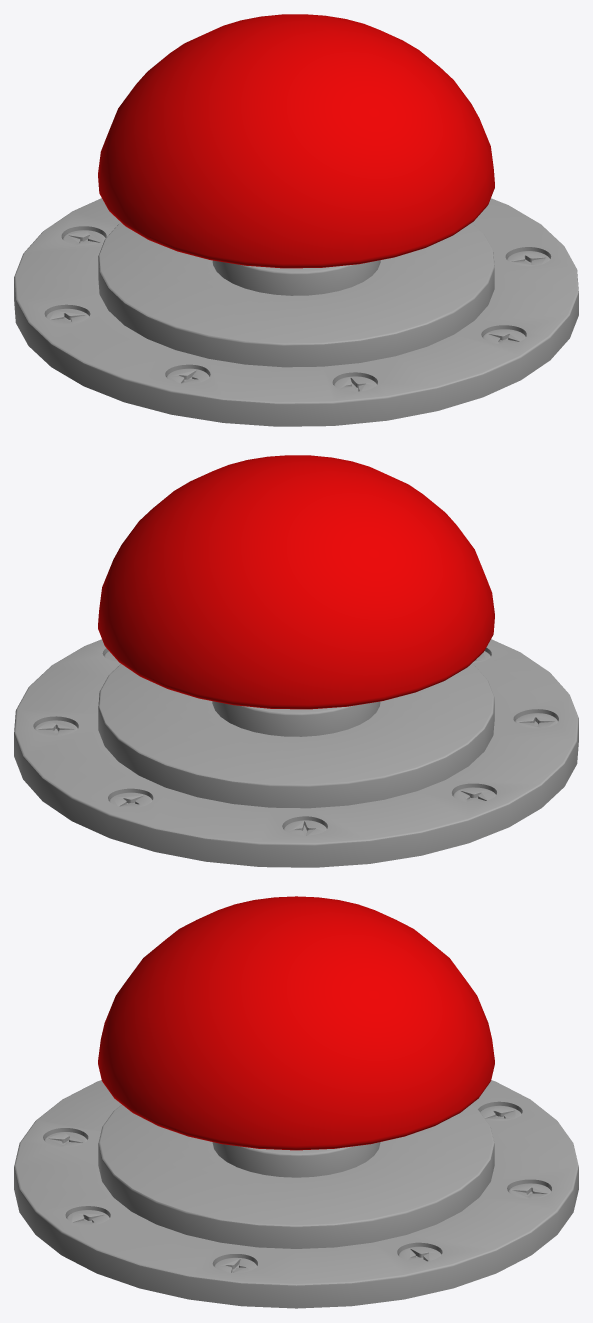
File: button.fbx
3 views of the same model, one above another, from view 1: azimuth 30°, elevation 25°; view 2: azimuth 150°, elevation 25°; view 3: azimuth 270°, elevation 25° (orthographic).
Visible parts, largest first — view 1: Cylinder, Cylinder.003; view 2: Cylinder, Cylinder.003; view 3: Cylinder, Cylinder.003.
Boxes of the visible parts, x1=… form: Cylinder: x1=14, y1=198, x2=578, y2=426; Cylinder.003: x1=98, y1=14, x2=494, y2=268; Cylinder: x1=14, y1=639, x2=578, y2=867; Cylinder.003: x1=98, y1=455, x2=494, y2=709; Cylinder: x1=14, y1=1080, x2=578, y2=1308; Cylinder.003: x1=98, y1=896, x2=494, y2=1150.
Bounding box in the file's own units: 200 × 106 × 200.
